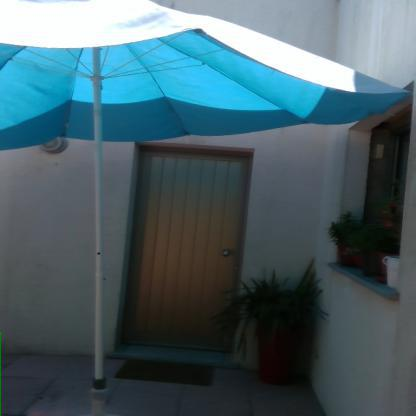door: (124, 152, 240, 350)
knob: (222, 249, 233, 256)
